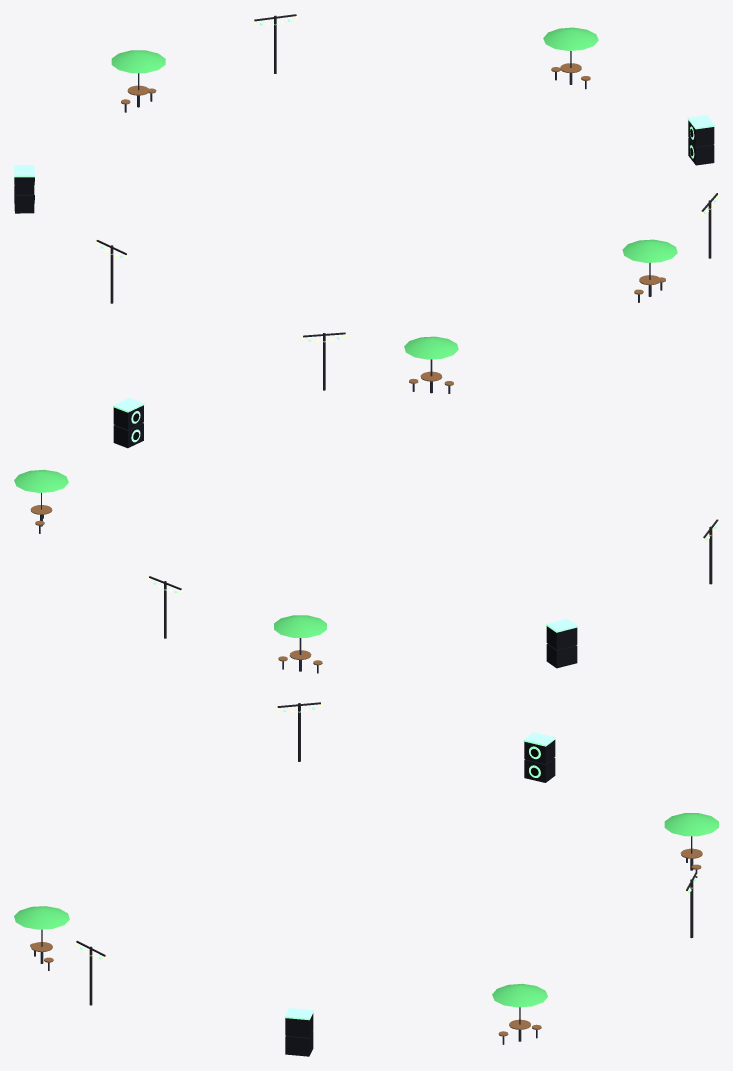
3 renders of one model, top to bottom at view 1: azimuth 30°, elevation 25°; view 2: azimuth 150°, elevation 25°; view 3: azimuth 270°, elevation 25°, orthographic. The views are drawn at different scales.
Parts seen in each view (by area): view 1: nexo_decor_agora.lod0; view 2: nexo_decor_agora.lod0; view 3: nexo_decor_agora.lod0.
Part boxes in pixels (box(x1,y1,x2,y2)): nexo_decor_agora.lod0: box(14, 14, 718, 303); nexo_decor_agora.lod0: box(14, 332, 718, 673); nexo_decor_agora.lod0: box(14, 702, 718, 1056).
Size of the model in its own units: 28.77 by 2.6 by 28.75.
